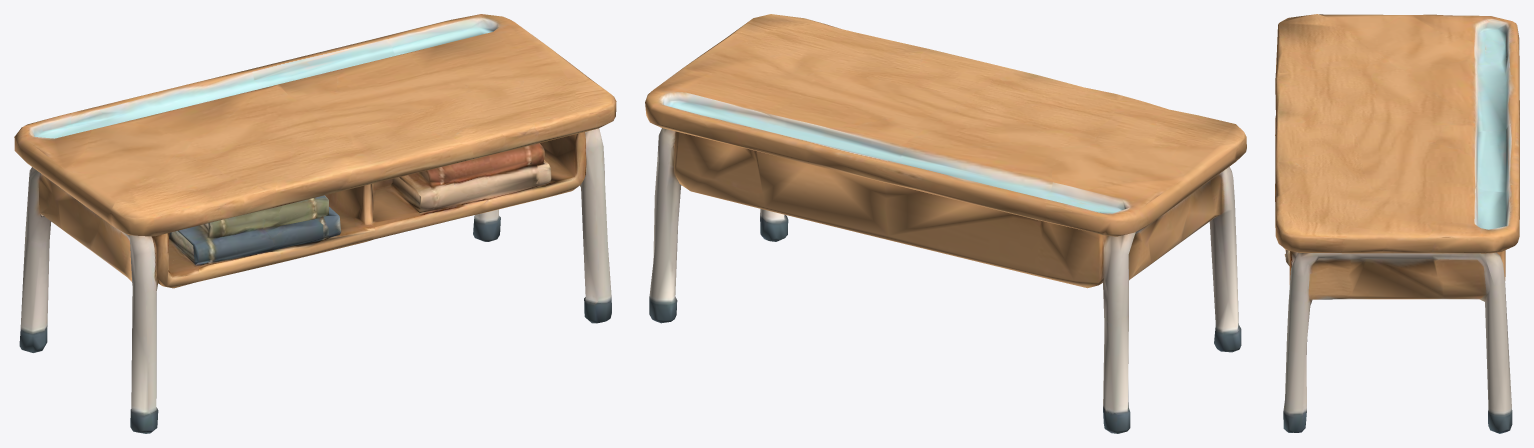
File: desk.medium.glb
3 renders of one model, left to right at view 1: azimuth 30°, elevation 25°; view 2: azimuth 150°, elevation 25°; view 3: azimuth 270°, elevation 25°, orthographic. The views are drawn at different scales.
Visible parts, largest first — view 1: tripo_node_b1cdfc5c-08b7-4f80-a41d-1fa9920e12f6; view 2: tripo_node_b1cdfc5c-08b7-4f80-a41d-1fa9920e12f6; view 3: tripo_node_b1cdfc5c-08b7-4f80-a41d-1fa9920e12f6.
Boxes of the visible parts, bbox=[...] form: tripo_node_b1cdfc5c-08b7-4f80-a41d-1fa9920e12f6: bbox=[14, 14, 616, 433]; tripo_node_b1cdfc5c-08b7-4f80-a41d-1fa9920e12f6: bbox=[645, 14, 1246, 433]; tripo_node_b1cdfc5c-08b7-4f80-a41d-1fa9920e12f6: bbox=[1275, 14, 1519, 433].
Size of the model in its own units: 1.56 by 0.6594 by 0.7199.
1 material, 1 textured.
